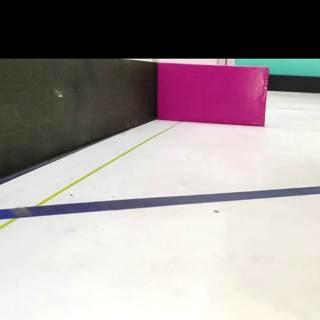xparking: (162, 68, 268, 126)
